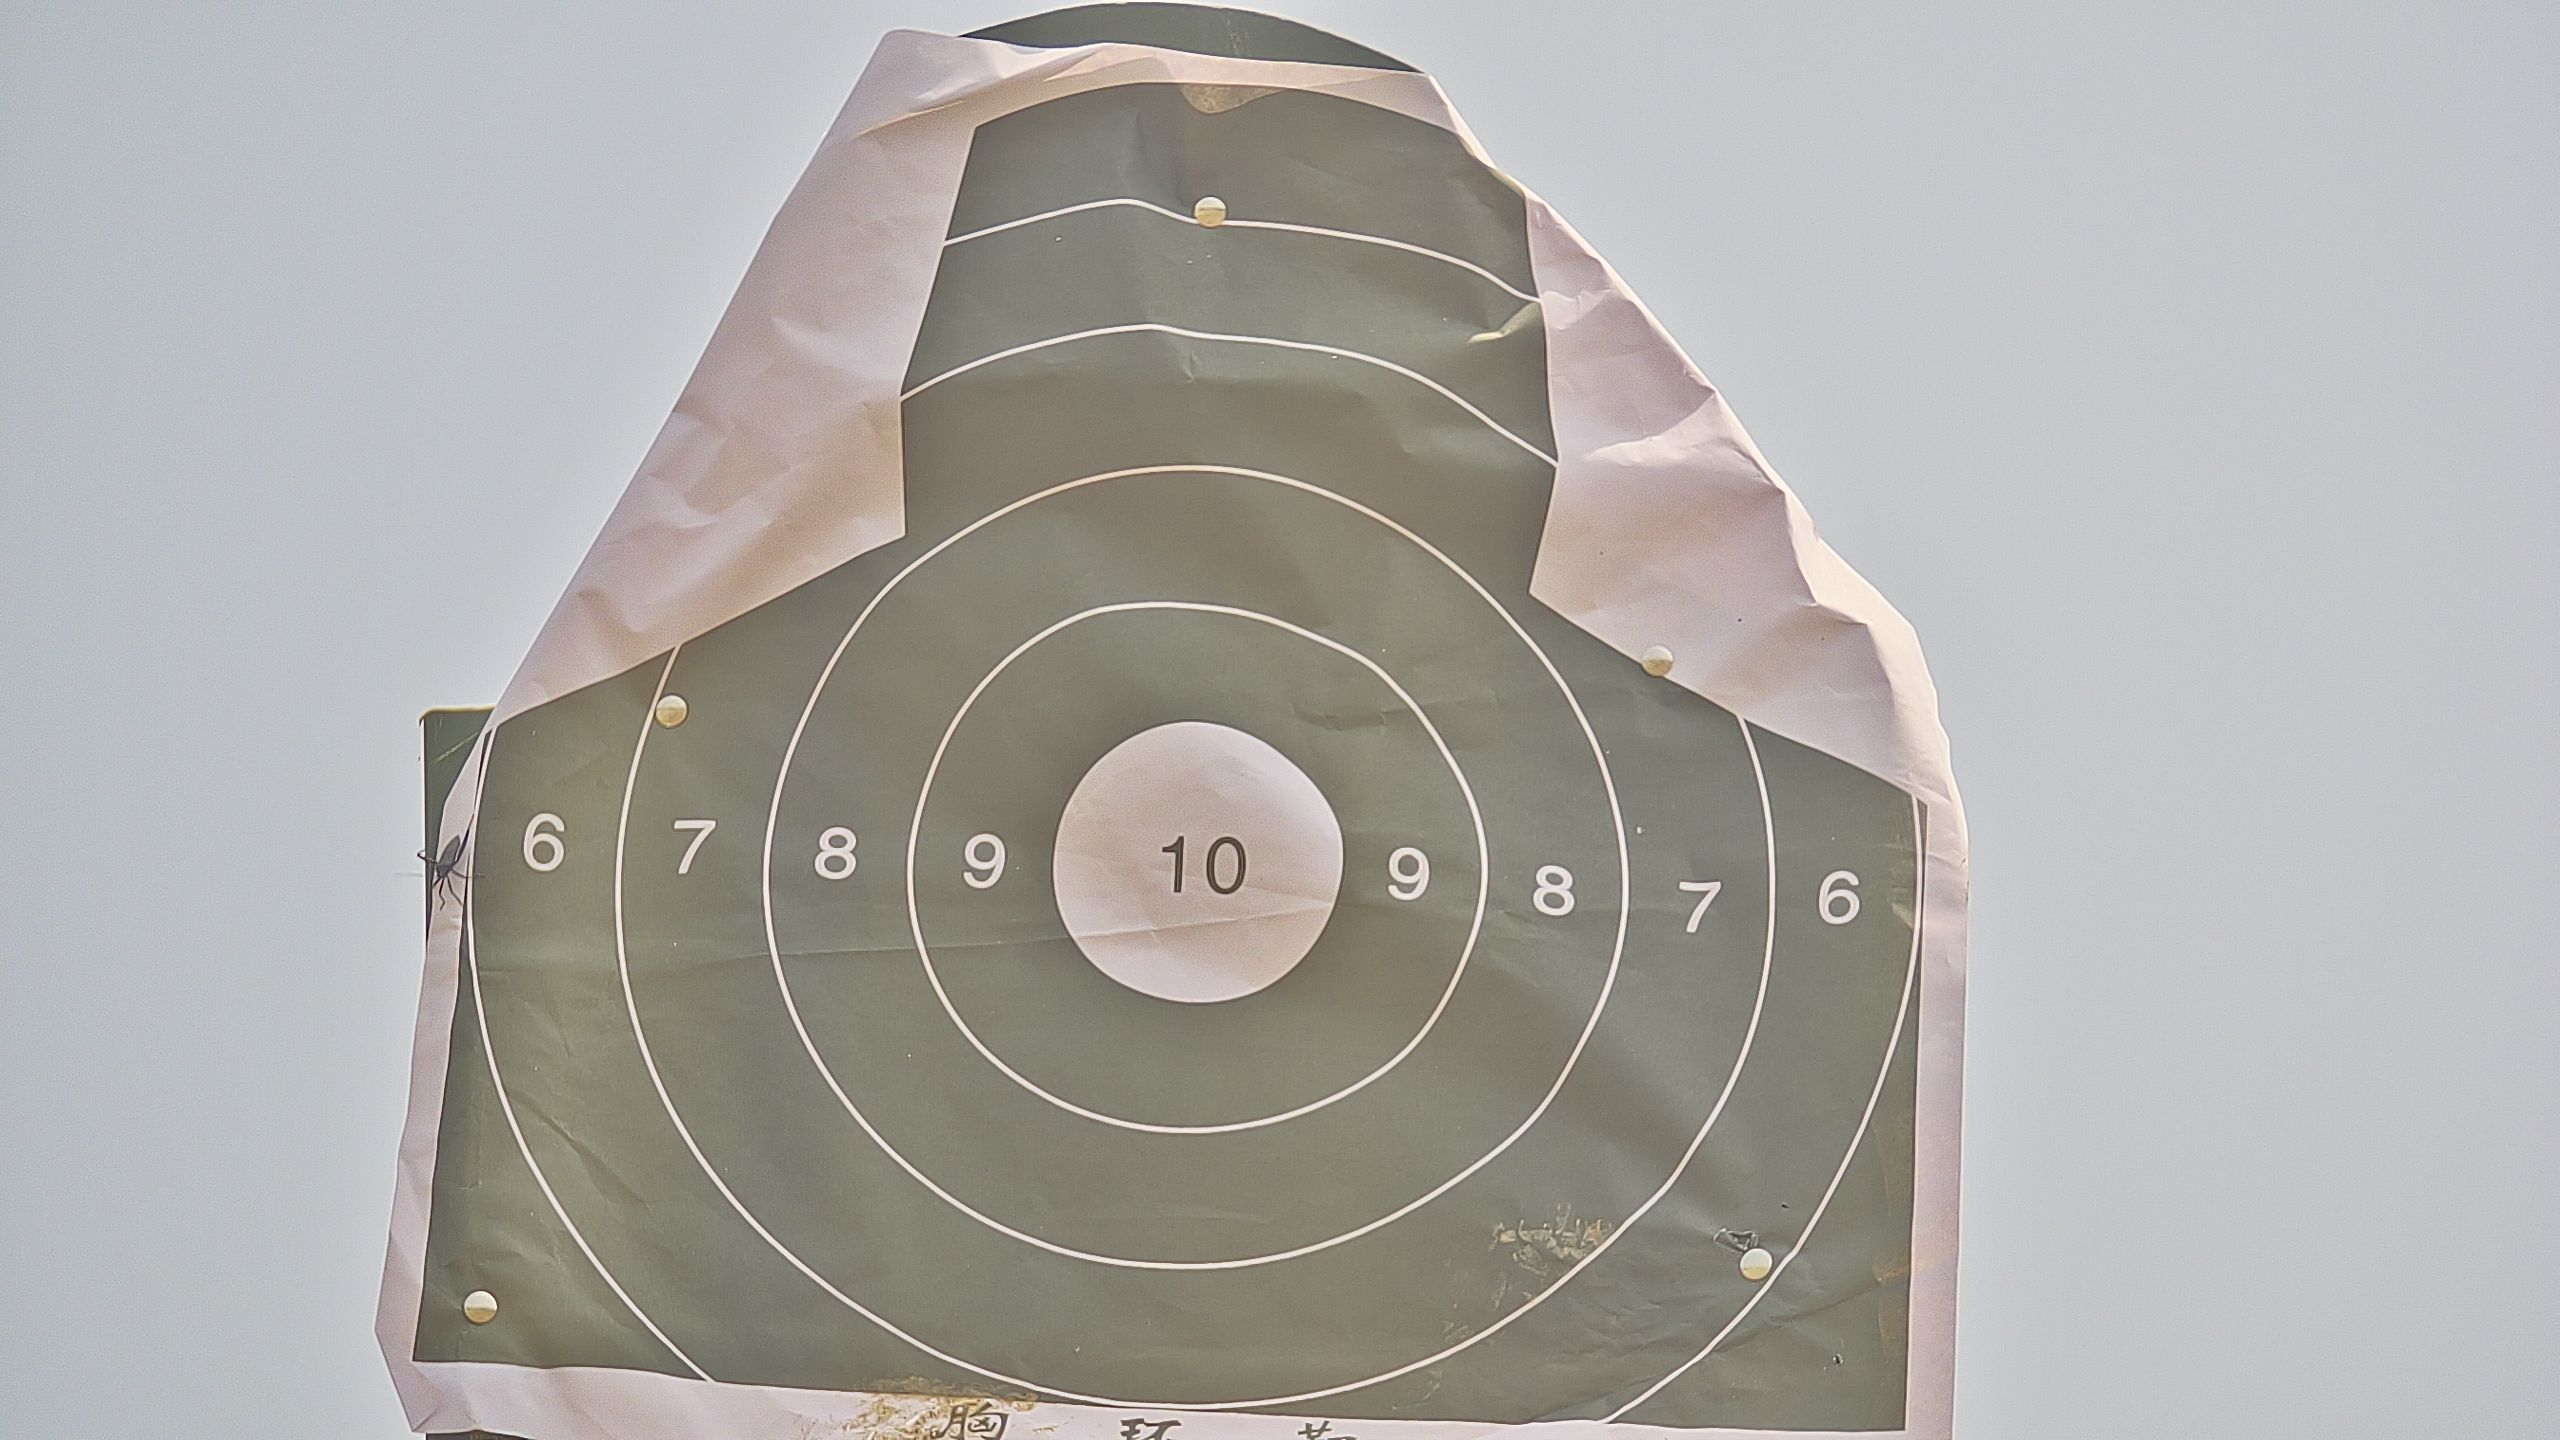kernel: (1194, 858, 1199, 869)
target: (408, 84, 1929, 1440)
ten: (1051, 723, 1347, 1007)
